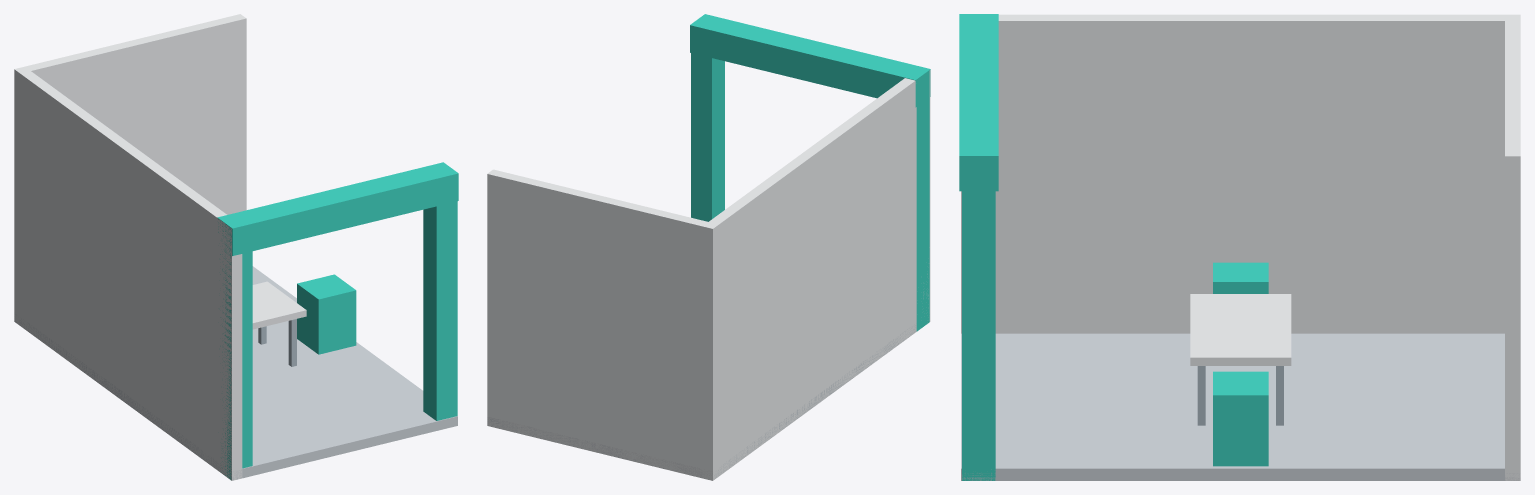
3 renders of one model, left to right at view 1: azimuth 30°, elevation 25°; view 2: azimuth 150°, elevation 25°; view 3: azimuth 270°, elevation 25°, orthographic. The views are drawn at different scales.
Parts seen in each view (by area): view 1: Exhibition Booth Concept; view 2: Exhibition Booth Concept; view 3: Exhibition Booth Concept.
Part boxes in pixels (x1,y1,x2,y2): Exhibition Booth Concept: (14, 14, 458, 480); Exhibition Booth Concept: (487, 14, 930, 480); Exhibition Booth Concept: (959, 14, 1520, 480).
Size of the model in its own units: 3 by 3.2 by 5.02.
